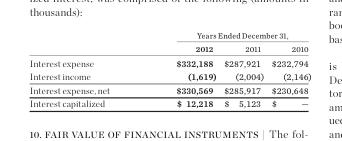table: (28, 28, 310, 109)
table column: (28, 28, 142, 109), (142, 28, 220, 109), (220, 28, 267, 109), (267, 28, 310, 109)
table column header: (28, 28, 310, 54)
table row: (28, 40, 310, 54), (28, 54, 310, 68), (28, 68, 310, 82), (28, 82, 310, 96), (28, 96, 310, 109), (28, 28, 310, 40)
table spanning cell: (142, 28, 310, 40)
